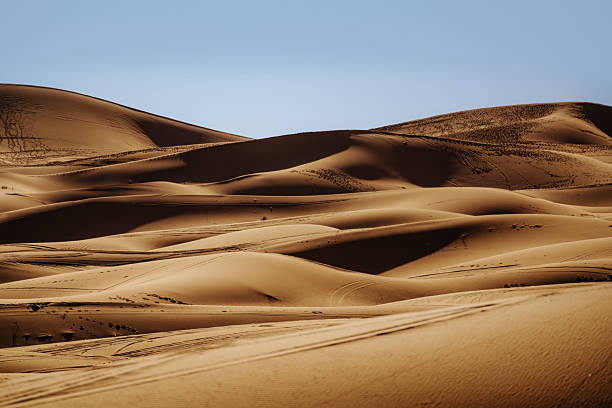vehicle_track: (20, 290, 516, 401), (327, 270, 377, 314)
